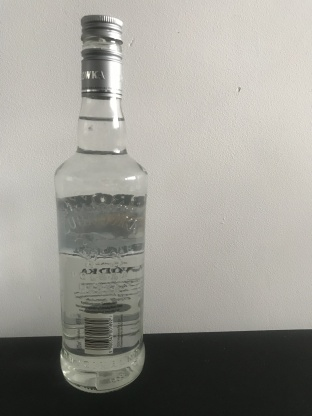nakretka: (79, 12, 124, 99)
